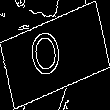O_S: (35, 24, 75, 86)
